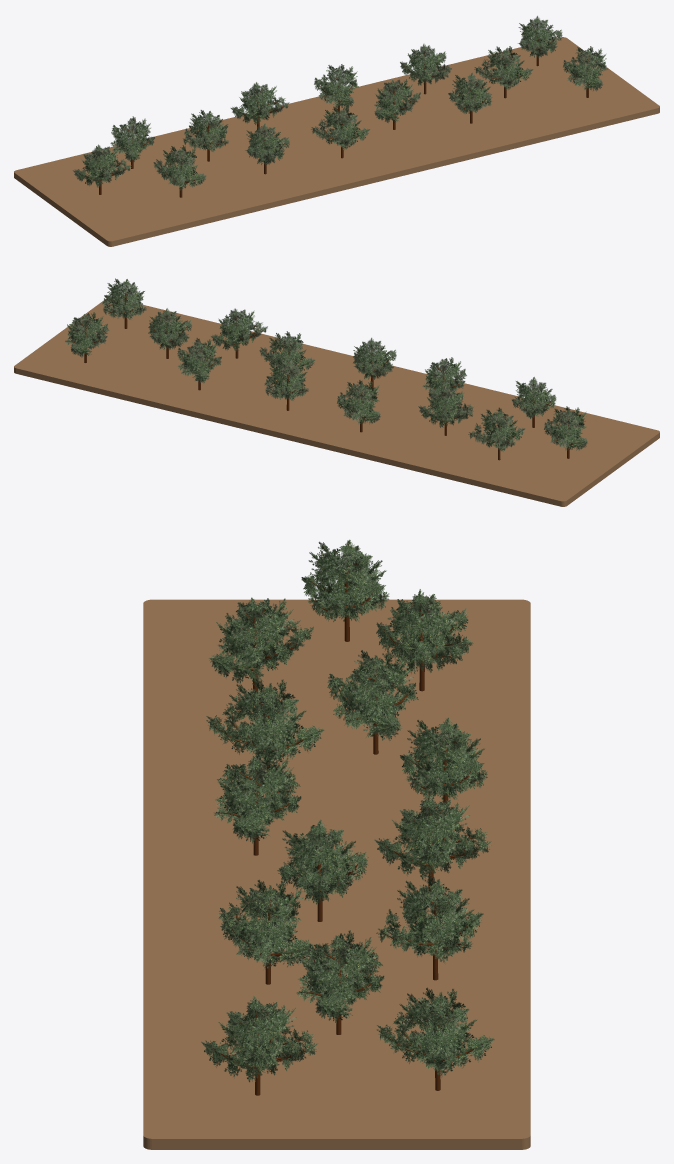
Rendered from treegrove.glb.
The picture shows the model from 3 angles, top to bottom: view 1: azimuth 30°, elevation 25°; view 2: azimuth 150°, elevation 25°; view 3: azimuth 270°, elevation 25°; orthographic projection. The views are drawn at different scales.
Visible parts, largest first — view 1: Cylinder, treelineEW; view 2: Cylinder, treelineEW; view 3: Cylinder, treelineEW.
Part boxes in pixels (box(x1,y1,x2,y2)): Cylinder: box(14, 37, 659, 246); treelineEW: box(72, 15, 608, 197); Cylinder: box(14, 298, 659, 506); treelineEW: box(65, 278, 587, 460); Cylinder: box(143, 599, 530, 1149); treelineEW: box(201, 539, 494, 1095).
Bounding box in the file's own units: 166 × 16.39 × 50.29.
Materials: 3 (1 with a texture image).
